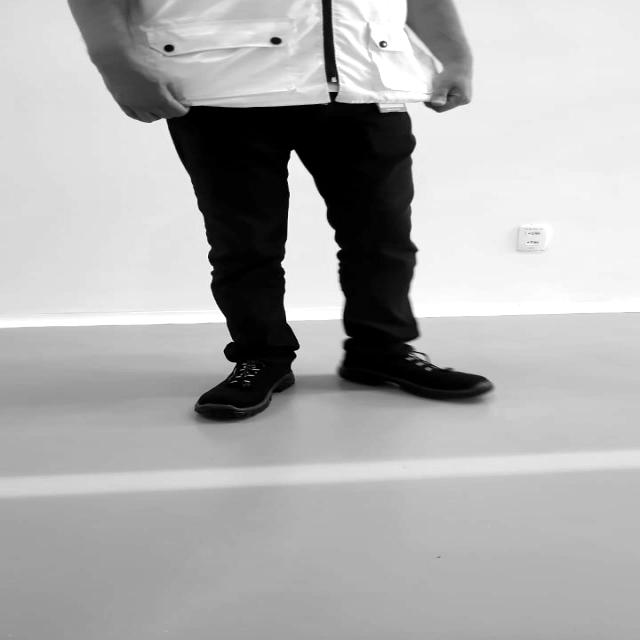Boots: (330, 336, 507, 406), (188, 341, 306, 425)
Vest: (183, 0, 414, 107)
